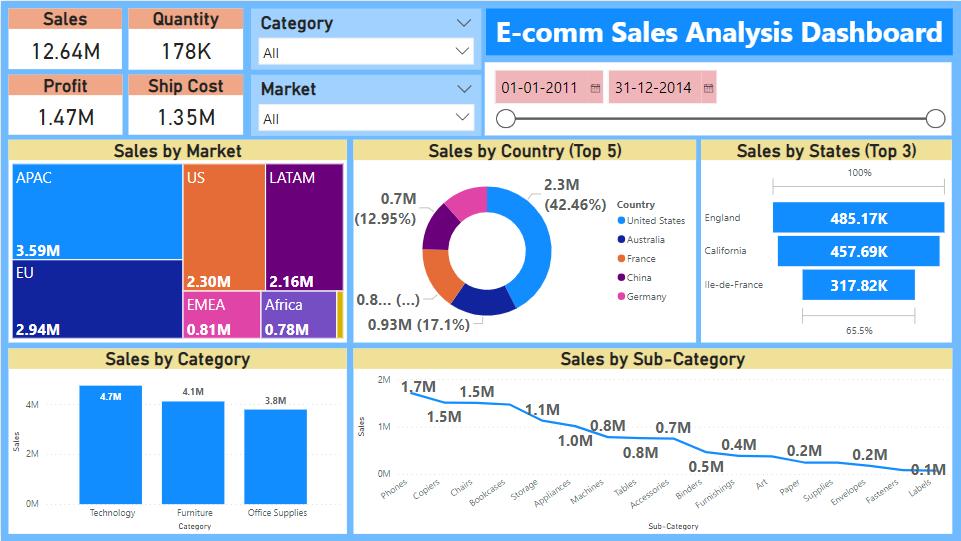

Layout of this report page (visuals, bound fields, positions):
{"tool":"powerbi","page":{"name":"E-Commerce Sales Dashboard","canvas":[1280,720],"ordinal":0},"visuals":[{"type":"columnChart","fields":{"Category":["Orders.Category"],"Y":["Sum(Orders.Sales)"]},"box":[10,462.9,451.4,247.1],"z":0},{"type":"lineChart","fields":{"Category":["Orders.Sub-Category"],"Y":["Sum(Orders.Sales)"]},"box":[470,462.9,798.6,247.1],"z":1000},{"type":"treemap","fields":{"Group":["Orders.Market"],"Values":["Sum(Orders.Sales)"]},"box":[9.5,184.7,451.4,270],"z":2000},{"type":"donutChart","title":"Sales by Country (Top 5)","fields":{"Category":["Orders.Country"],"Y":["Sum(Orders.Sales)"]},"box":[469.5,184.7,457.1,270],"z":3000},{"type":"funnel","title":"Sales by States (Top 3)","fields":{"Category":["Orders.State"],"Y":["Sum(Orders.Sales)"]},"box":[933.8,184.7,334.3,270],"z":4000},{"type":"card","title":"Sales","fields":{"Values":["Sum(Orders.Sales)"]},"box":[10,10.3,151.1,81.1],"z":5000},{"type":"card","title":"Profit","fields":{"Values":["Sum(Orders.Profit)"]},"box":[10,98.2,151.8,80],"z":6000},{"type":"card","title":"Quantity","fields":{"Values":["Sum(Orders.Quantity)"]},"box":[170.8,10.3,152.9,81.4],"z":7000},{"type":"card","title":"Ship Cost","fields":{"Values":["Sum(Orders.Shipping Cost)"]},"box":[170.8,98.2,152.9,80],"z":8000},{"type":"slicer","fields":{"Values":["Orders.Category"]},"box":[332.9,10.3,307.1,81.4],"z":9000},{"type":"slicer","fields":{"Values":["Orders.Market"]},"box":[332.5,97.5,307.5,81.2],"z":10000},{"type":"slicer","fields":{"Values":["Orders.Order Date"]},"box":[645,81.2,622.5,97.5],"z":11000},{"type":"textbox","box":[646.2,10,622.5,62.5],"z":12000}]}

Visuals, with their boxes in screenshot pixels (x1, y1, x2, y2), scaled from the page's 1280x720 canvas onto the 961x541 screenshot:
columnChart - Orders.Category x Sum(Orders.Sales): select_region(8, 348, 346, 533)
lineChart - Orders.Sub-Category x Sum(Orders.Sales): select_region(353, 348, 952, 533)
treemap - Orders.Market x Sum(Orders.Sales): select_region(7, 139, 346, 342)
"Sales by Country (Top 5)" donutChart: select_region(352, 139, 696, 342)
"Sales by States (Top 3)" funnel: select_region(701, 139, 952, 342)
"Sales" card: select_region(8, 8, 121, 69)
"Profit" card: select_region(8, 74, 121, 134)
"Quantity" card: select_region(128, 8, 243, 69)
"Ship Cost" card: select_region(128, 74, 243, 134)
slicer - Orders.Category: select_region(250, 8, 480, 69)
slicer - Orders.Market: select_region(250, 73, 480, 134)
slicer - Orders.Order Date: select_region(484, 61, 952, 134)
textbox: select_region(485, 8, 953, 54)
